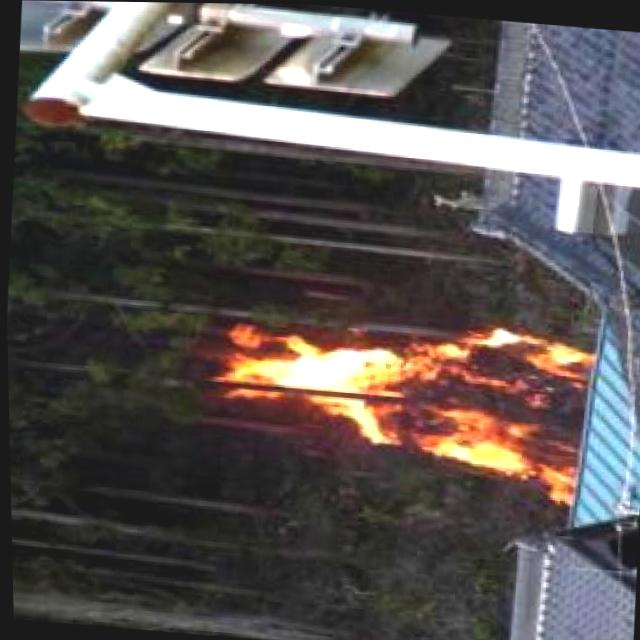helmet: (223, 303, 598, 485)
